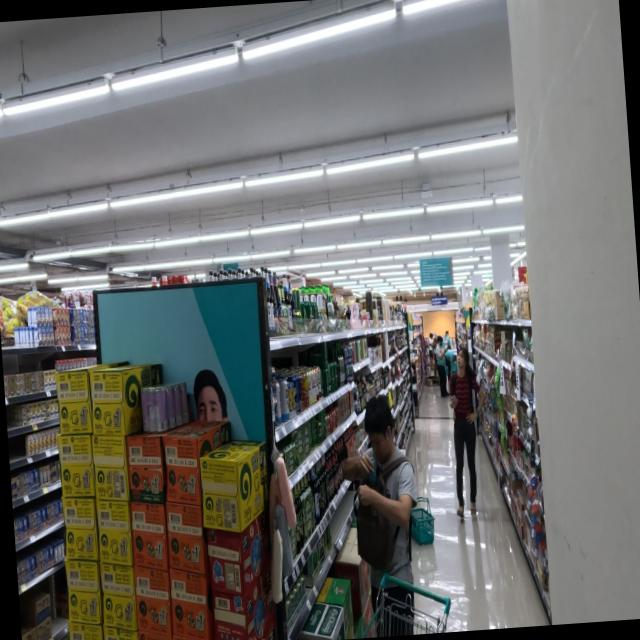shoplifting: (332, 390, 428, 639)
